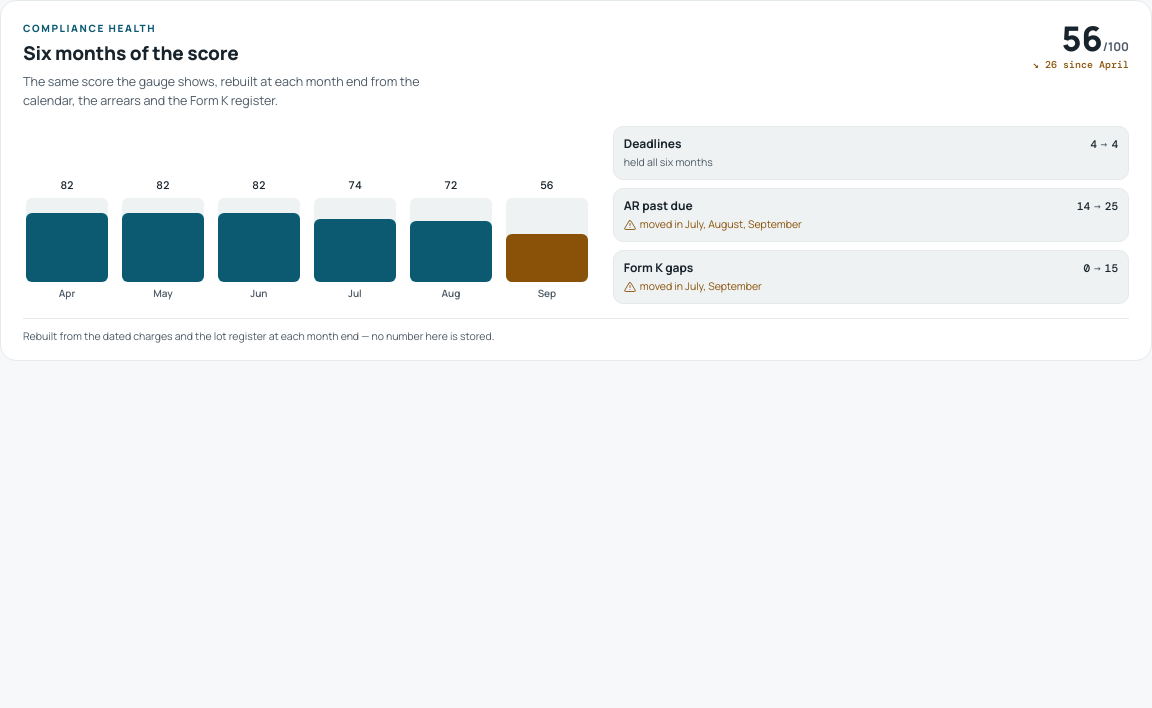
Test: HealthTrend › opens a month to its charges and its Form K register
The width and height of the screenshot is (1152, 708).
Click the button with class "bar-button" showing "56 Sep": (547, 238) [503,172,591,304]
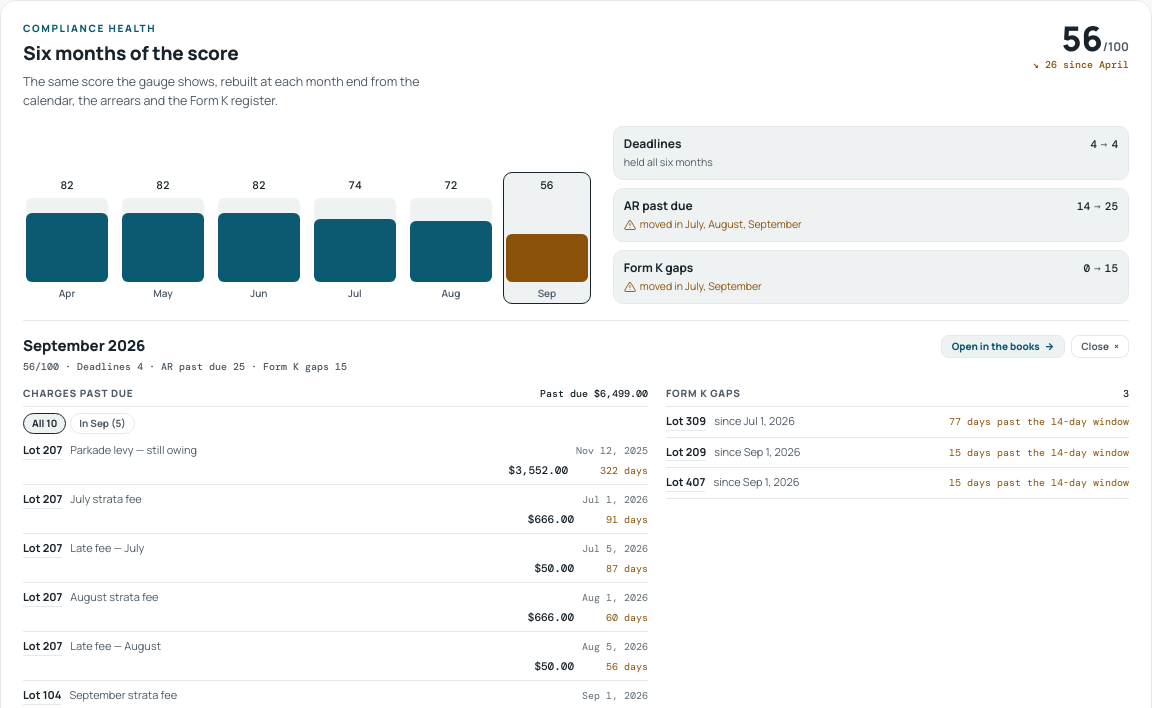
Expected: the element with class "trend-detail" shows "September", [23,334,145,356]
Expected: the element with class "trend-detail" shows "Lot 207", [23,442,62,460]
Expected: the link with id "forms" is shown, [666,444,706,461]
